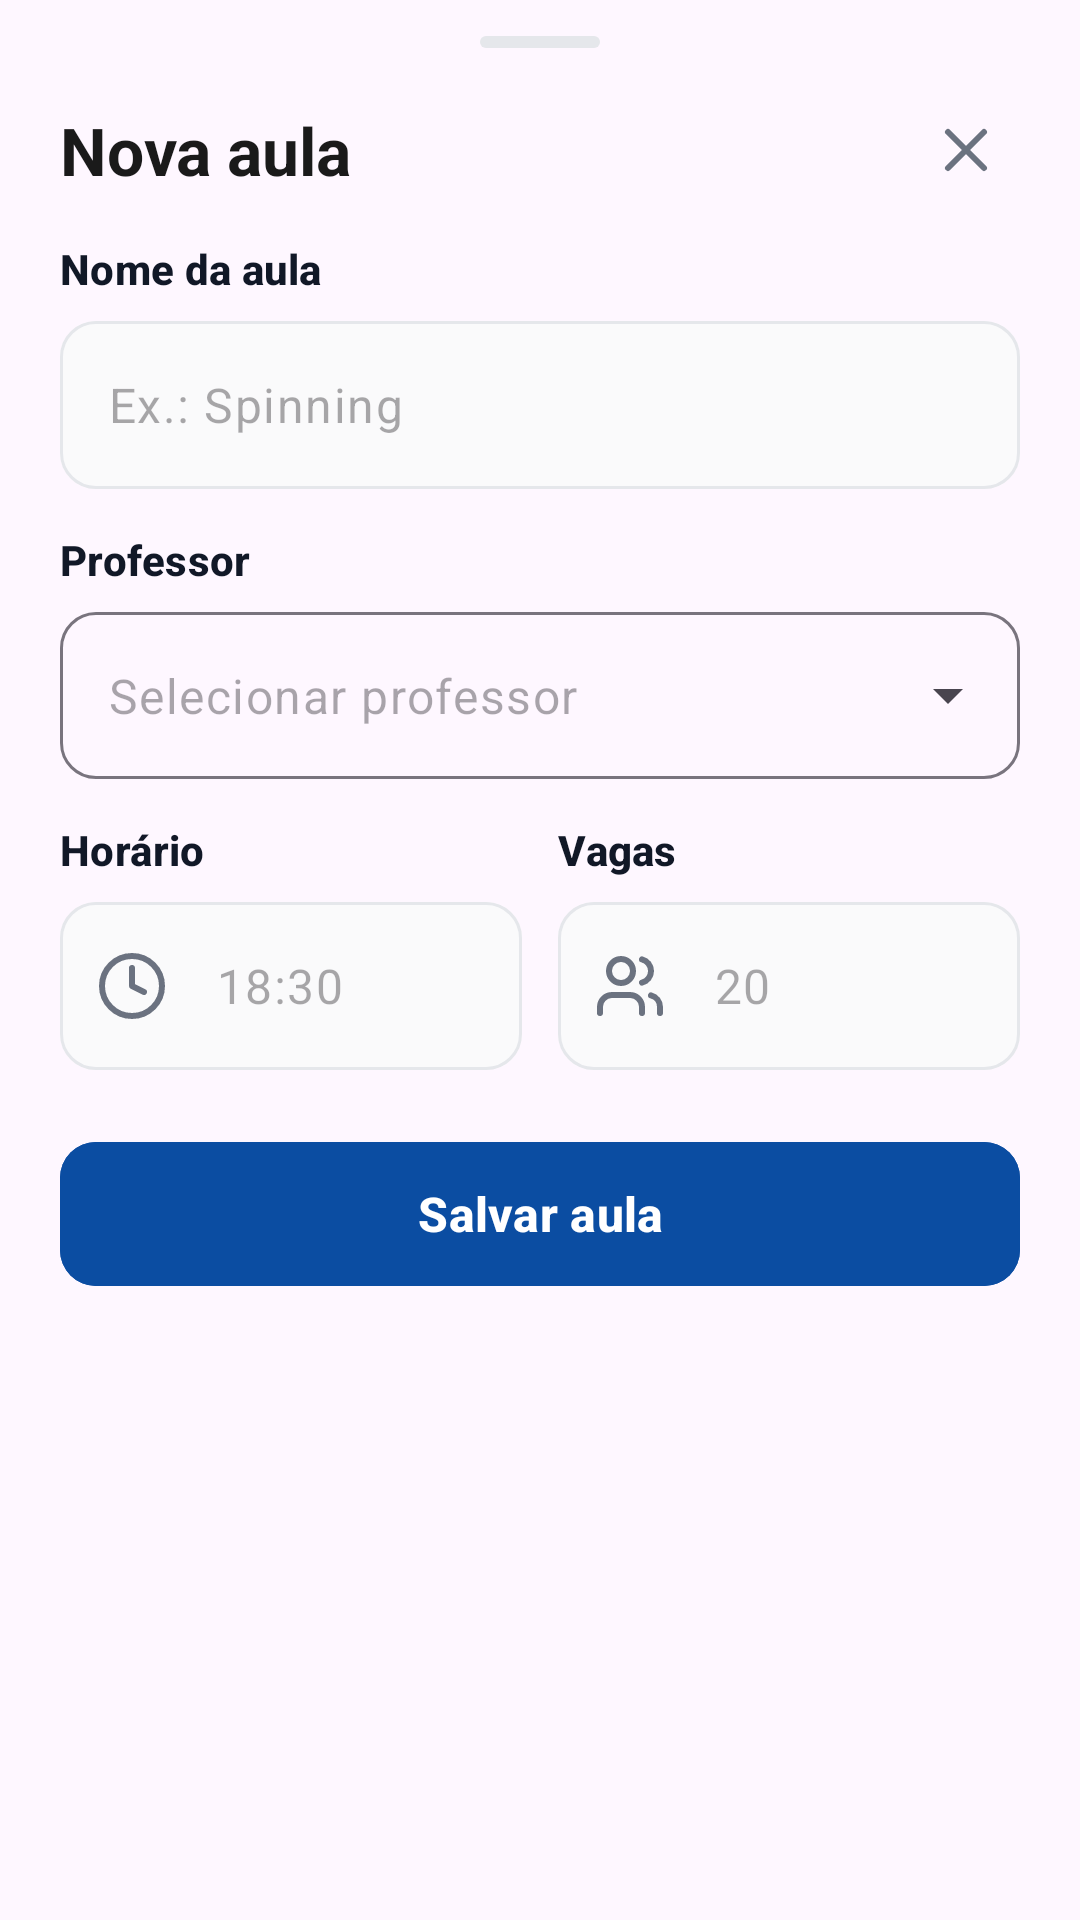

Screen size 1080px x 1920px. Icon name, then its center in pixels as (x=x, y=y):
Fechar: (x=966, y=150)
